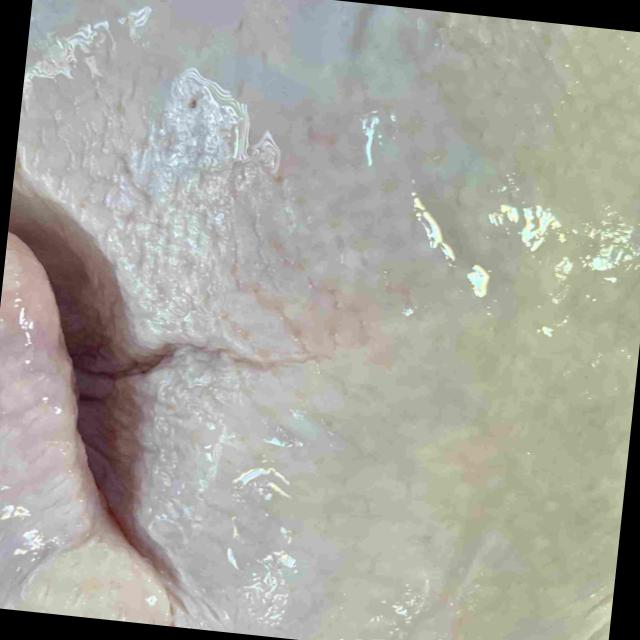back: (20, 0, 640, 640)
wing: (0, 231, 181, 627)
